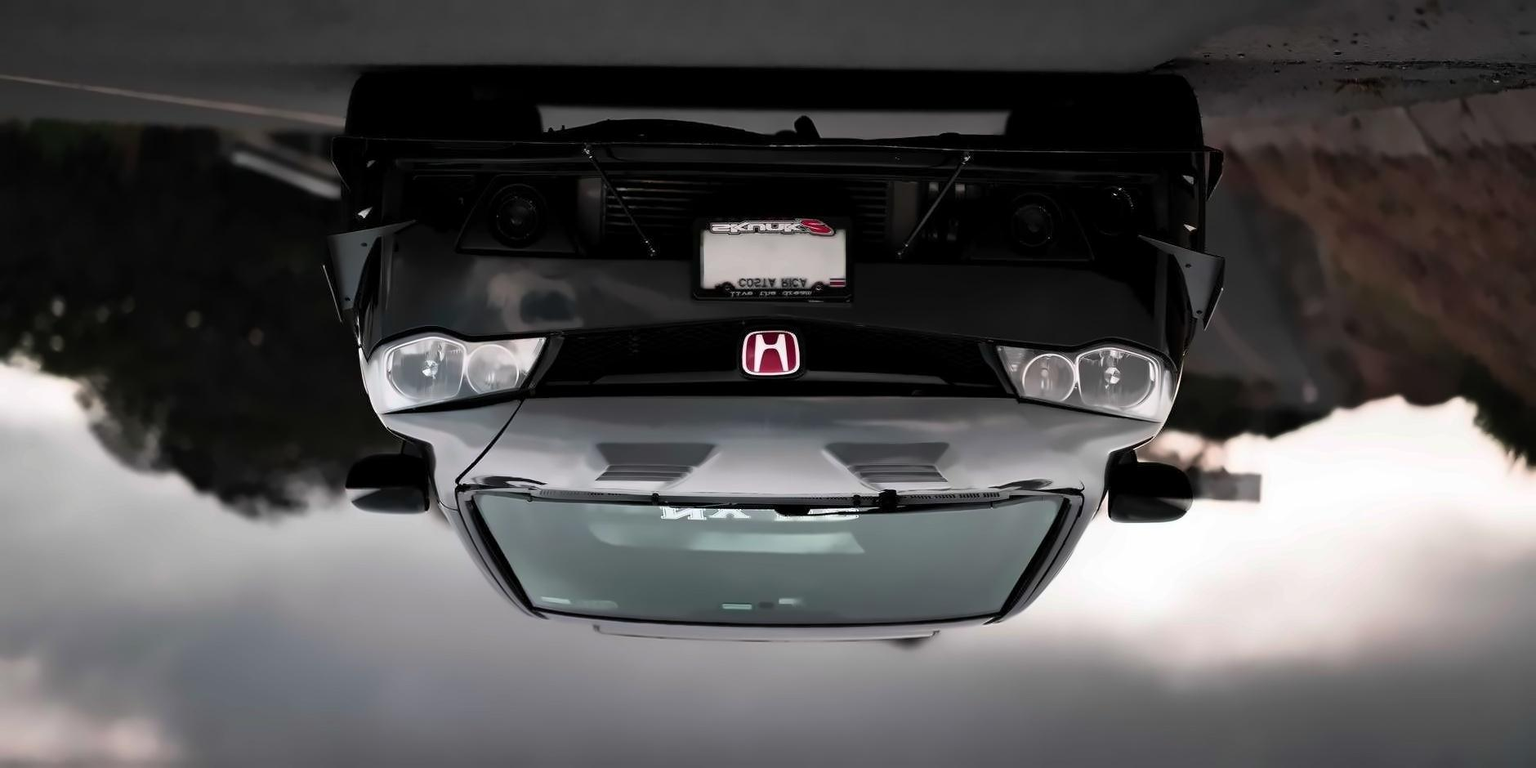Car hood: (375, 387, 1170, 515)
Front bumper: (297, 130, 1241, 336)
Headlight - -L-: (357, 320, 554, 423)
Headlight - -R-: (989, 334, 1185, 431)
Side mirror - -L-: (341, 444, 445, 520)
Side mirror - -R-: (1098, 444, 1197, 534)
